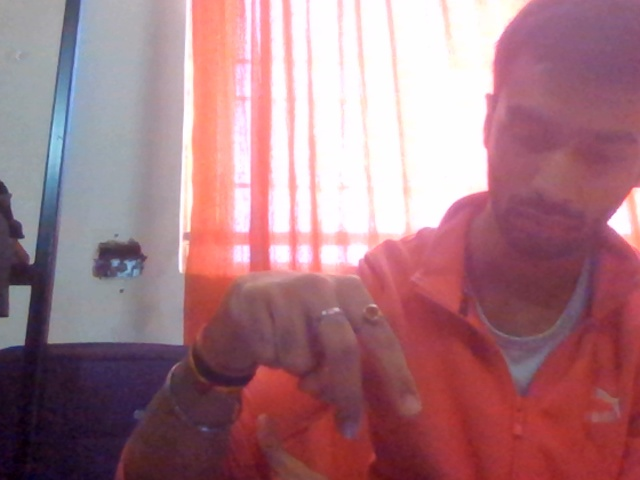P: (204, 232, 416, 457)
